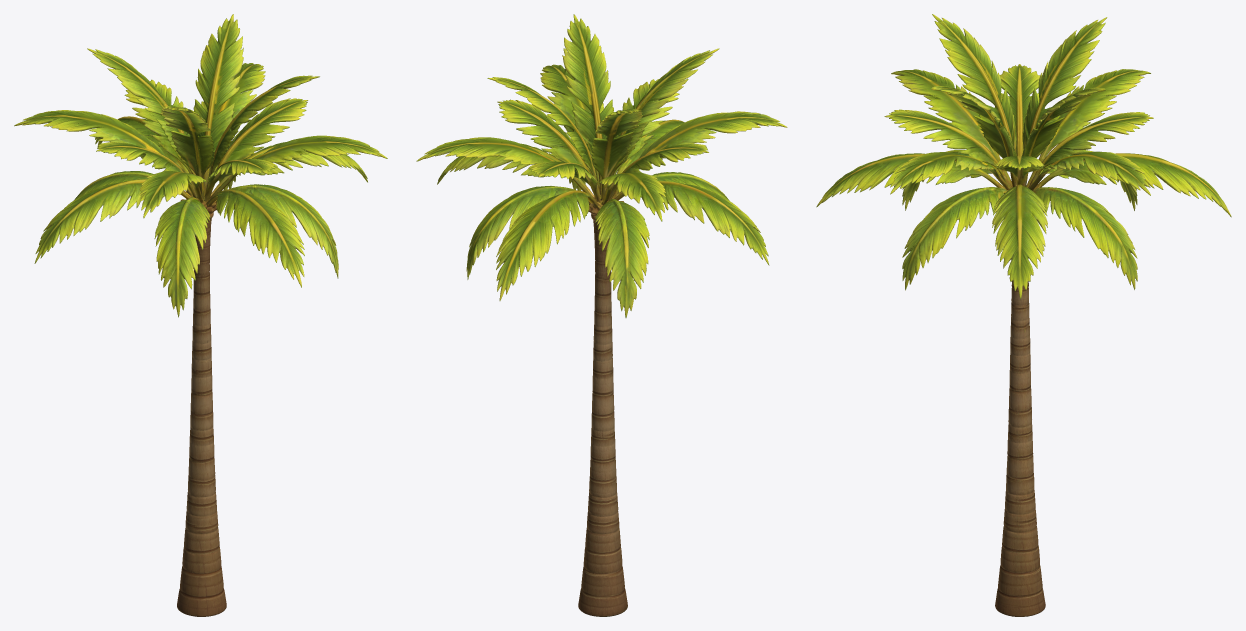
The model's file is palmera1.glb.
3 views of the same model, side by side, from view 1: azimuth 30°, elevation 25°; view 2: azimuth 150°, elevation 25°; view 3: azimuth 270°, elevation 25° (orthographic). The views are drawn at different scales.
Bounding box in the file's own units: 1.21 × 1.9 × 1.28.
Materials: 1 (1 with a texture image).
